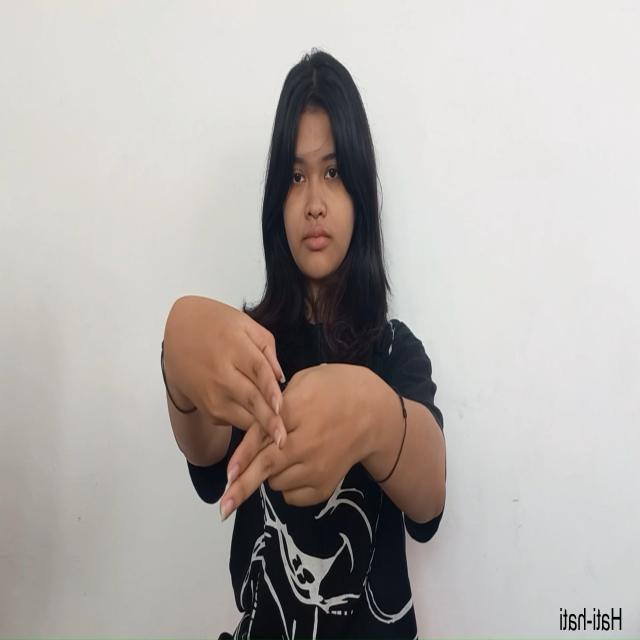Hati-hati -BISINDO-: (162, 293, 386, 523)
